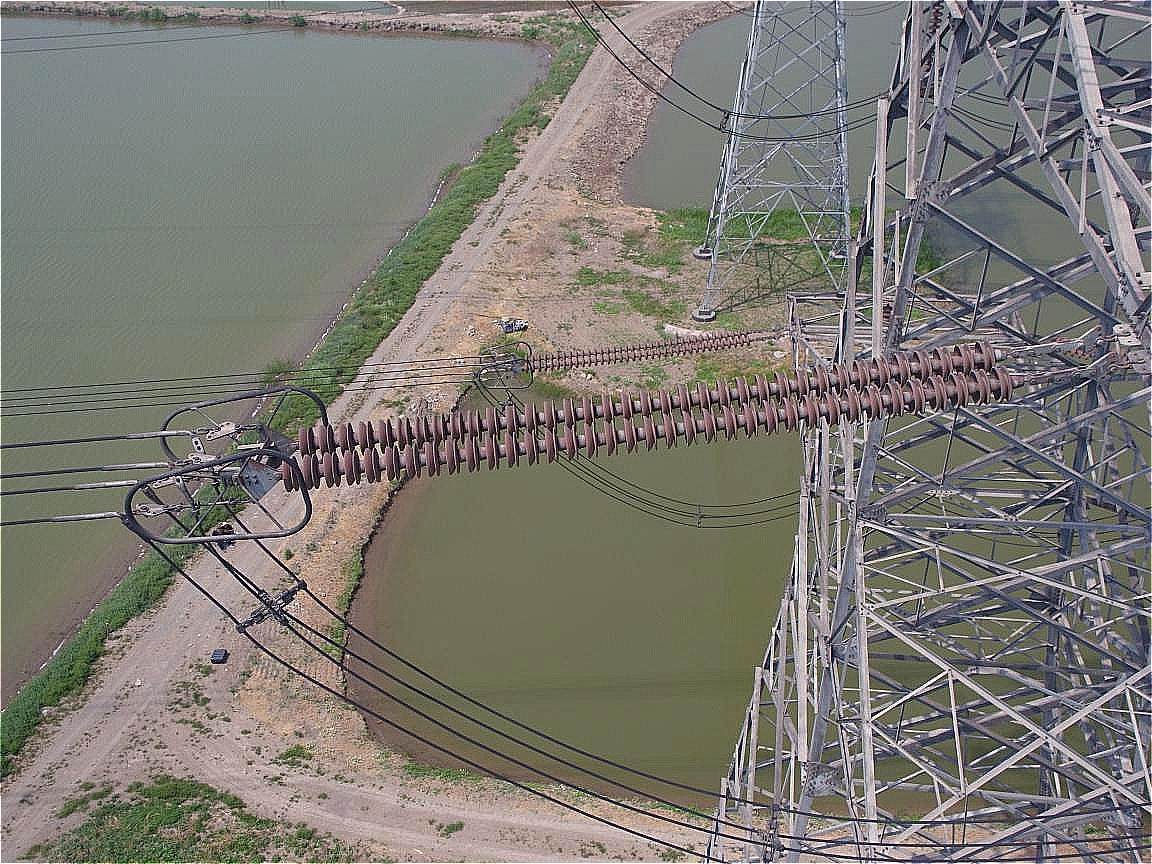insultor1: (523, 315, 771, 379)
insultor2: (275, 331, 1030, 486)
